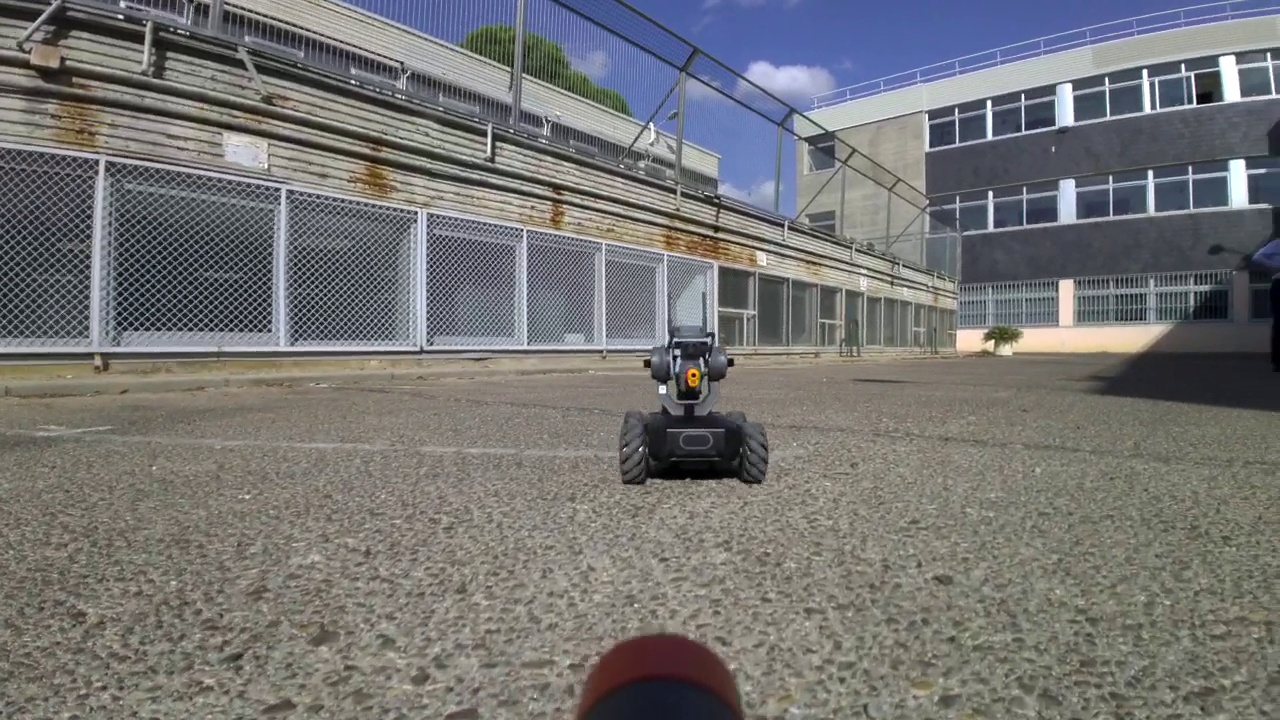robot: (617, 290, 769, 485)
